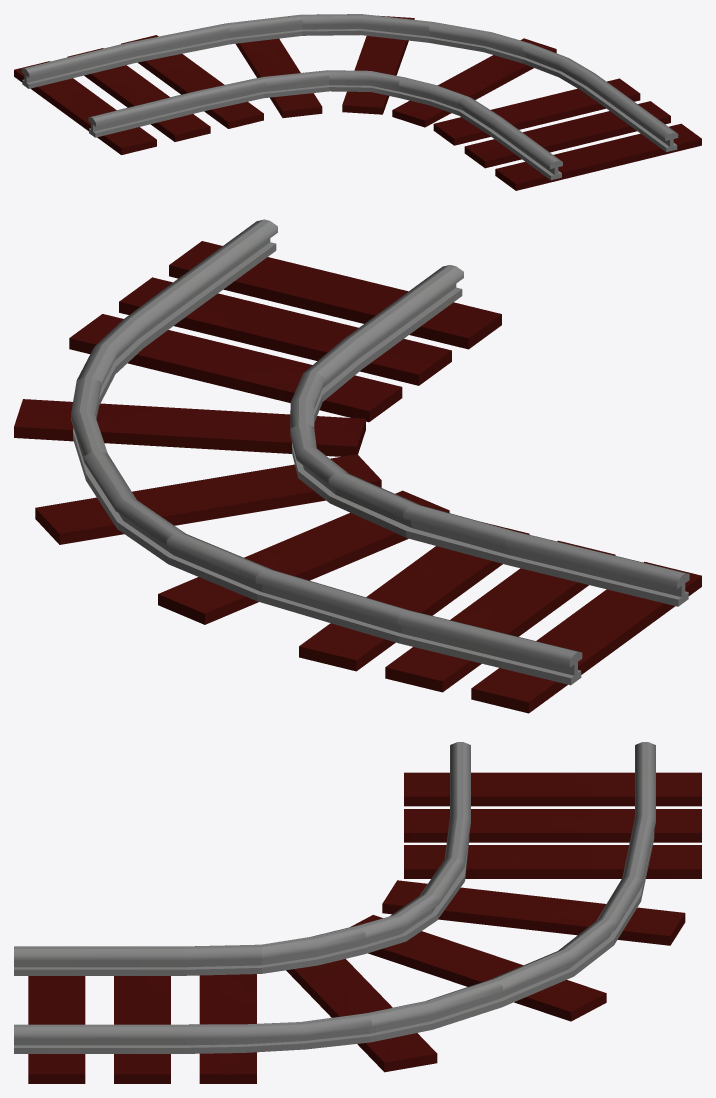
File: Trilho 4.fbx
3 renders of one model, top to bottom at view 1: azimuth 30°, elevation 25°; view 2: azimuth 150°, elevation 25°; view 3: azimuth 270°, elevation 25°, orthographic. The views are drawn at different scales.
Parts seen in each view (by area): view 1: Trilho 4, Trilho 4 ferro; view 2: Trilho 4, Trilho 4 ferro; view 3: Trilho 4, Trilho 4 ferro.
Boxes of the visible parts, bbox=[...] form: Trilho 4: bbox=[14, 15, 701, 190]; Trilho 4 ferro: bbox=[21, 14, 678, 180]; Trilho 4: bbox=[14, 241, 701, 713]; Trilho 4 ferro: bbox=[71, 219, 689, 685]; Trilho 4: bbox=[28, 772, 701, 1083]; Trilho 4 ferro: bbox=[14, 742, 655, 1053].
Bounding box in the file's own units: 1101 × 57.07 × 1041.
Materials: 1 (1 with a texture image).
